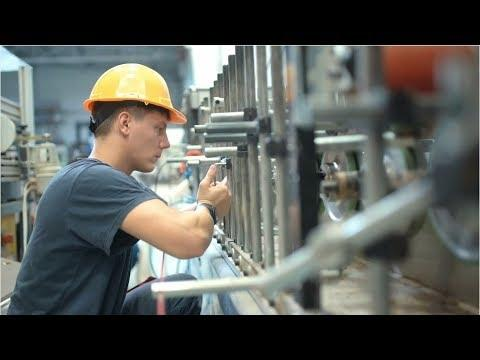helmet: (84, 63, 190, 124)
no_wear: (16, 170, 143, 318)
